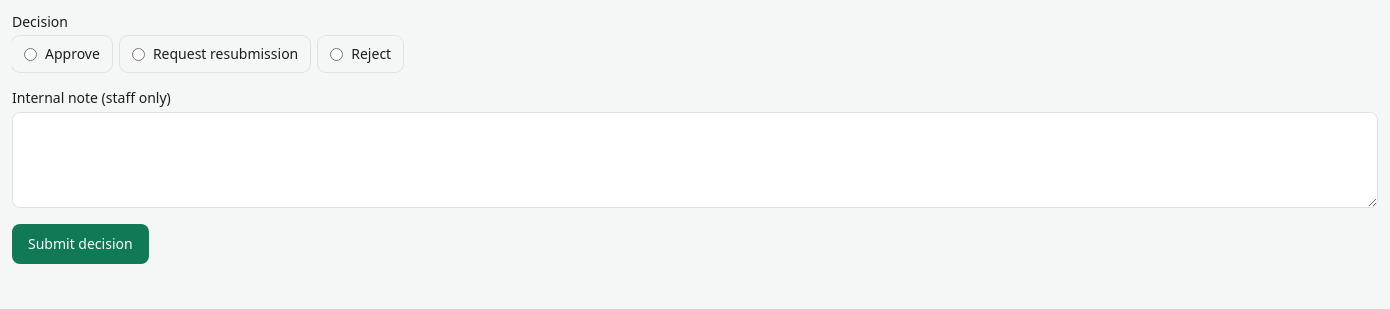
review decisions › blocks approval until the checklist is complete
Click the radio button labelled "Approve".
click(30, 54)  # box x1=24 y1=48 x2=37 y2=60
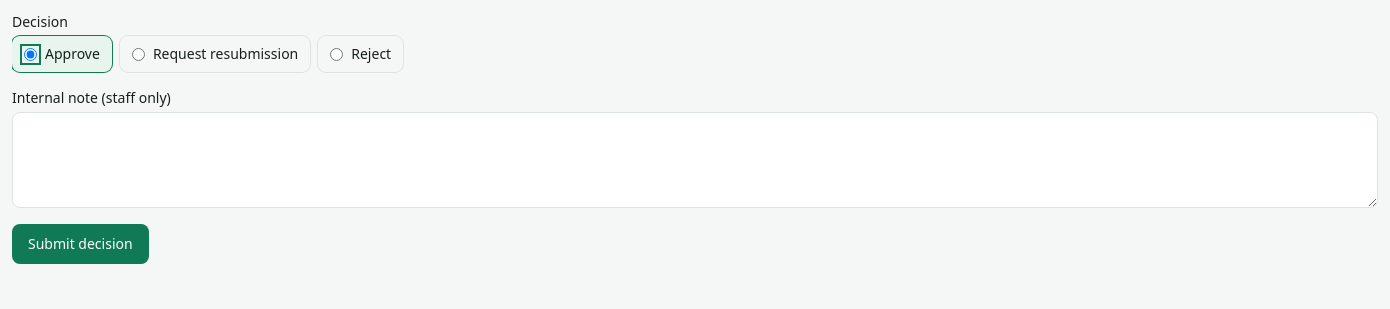
Click the button "Submit decision".
click(80, 244)  # box x1=12 y1=224 x2=149 y2=264
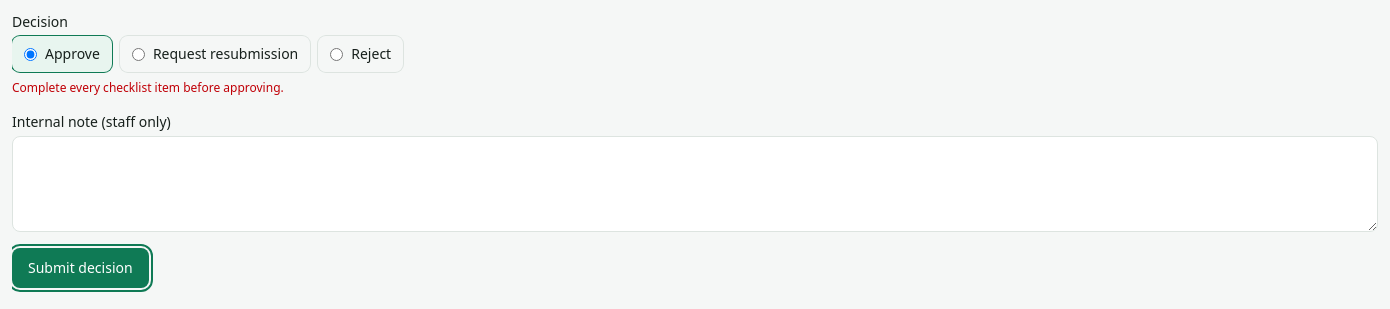
Now the text "Complete every checklist item before approving." is shown, box x1=12 y1=79 x2=284 y2=96
